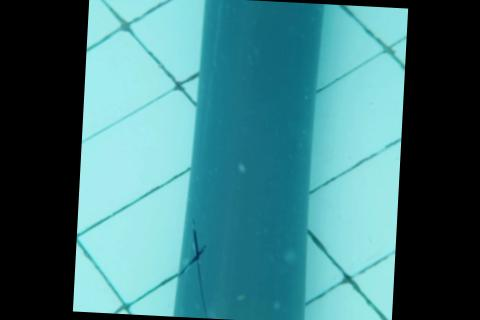keretakan: (176, 222, 218, 319)
